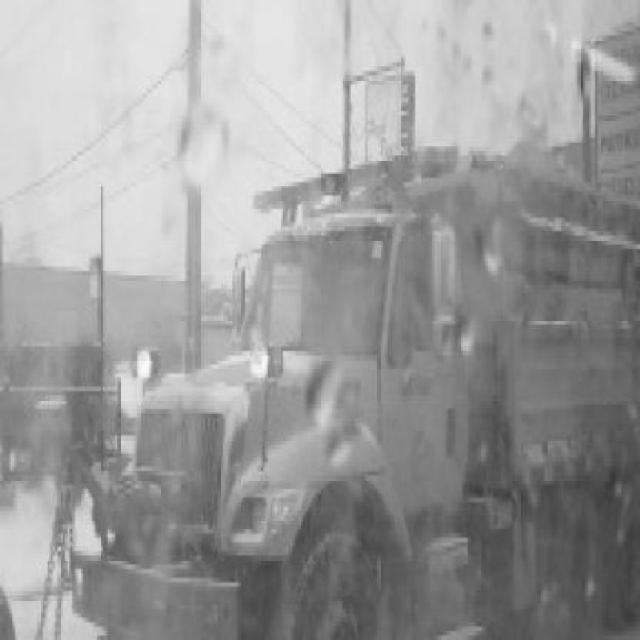Truck- Multi-Axle: (72, 148, 640, 640)
